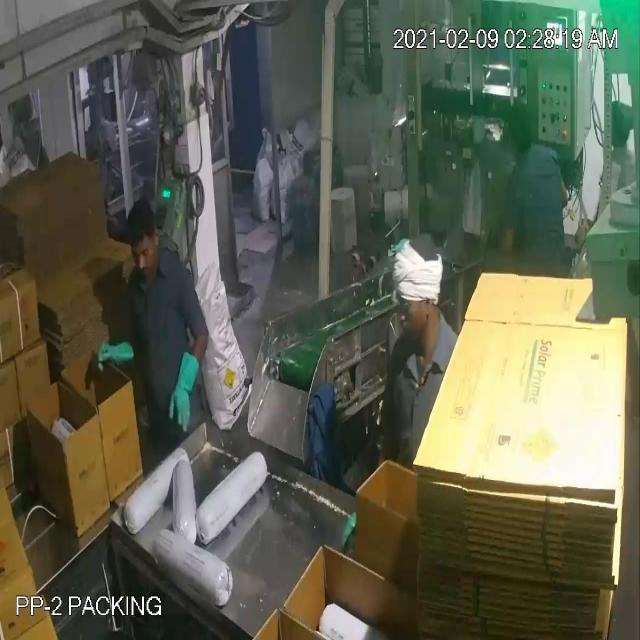Gloves: (29, 44, 185, 388)
